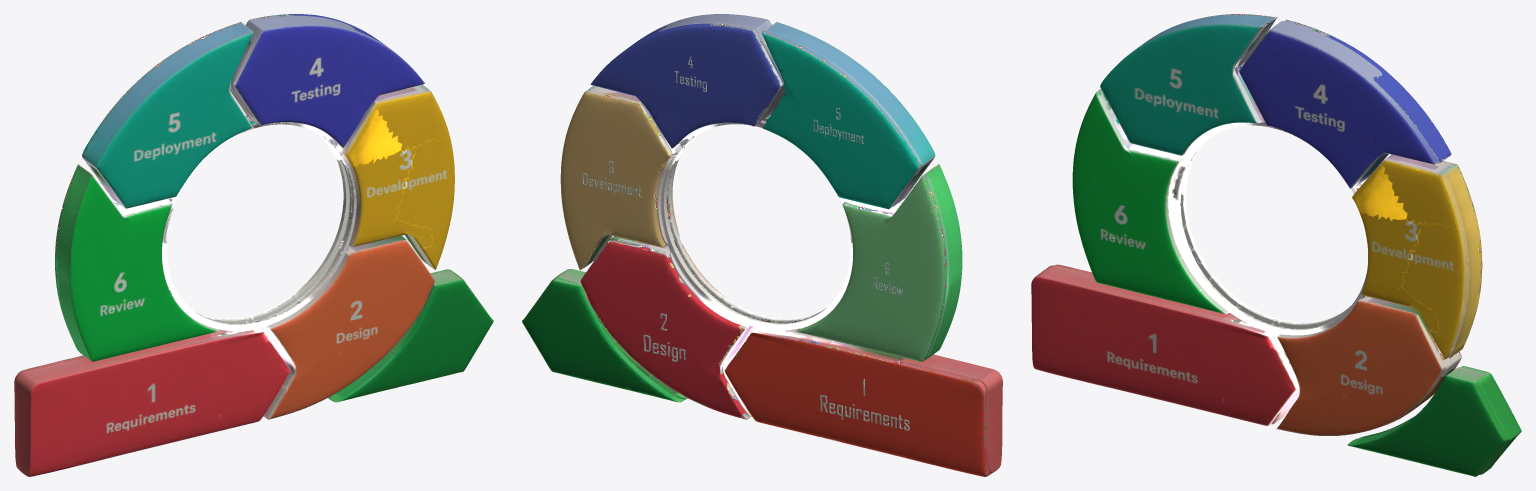
The model's file is agile1.glb.
3 views of the same model, side by side, from view 1: azimuth 30°, elevation 25°; view 2: azimuth 150°, elevation 25°; view 3: azimuth 330°, elevation 25° (orthographic).
Visible parts, largest first — view 1: AG_REQUIREMENT, AG_REVIEW, AG_DEPLOYMENT, AG_DESIGN, AG_TESTING, Mesh_0, AG_DEVELOPMENT; view 2: AG_REQUIREMENT, AG_REVIEW, AG_DEPLOYMENT, Mesh_0, AG_TESTING, AG_DESIGN, AG_DEVELOPMENT; view 3: AG_REQUIREMENT, AG_REVIEW, AG_TESTING, AG_DEVELOPMENT, AG_DESIGN, AG_DEPLOYMENT, Mesh_0.
Boxes of the visible parts, bbox=[...] form: AG_REQUIREMENT: bbox=[14, 332, 292, 476]; AG_REVIEW: bbox=[55, 164, 219, 361]; AG_DEPLOYMENT: bbox=[82, 22, 253, 208]; AG_DESIGN: bbox=[263, 236, 445, 417]; AG_TESTING: bbox=[230, 14, 424, 152]; Mesh_0: bbox=[14, 18, 493, 452]; AG_DEVELOPMENT: bbox=[339, 93, 454, 266]; AG_REQUIREMENT: bbox=[734, 326, 1002, 476]; AG_REVIEW: bbox=[796, 164, 962, 361]; AG_DEPLOYMENT: bbox=[761, 22, 935, 209]; Mesh_0: bbox=[522, 26, 1002, 452]; AG_TESTING: bbox=[590, 14, 784, 151]; AG_DESIGN: bbox=[587, 235, 752, 417]; AG_DEVELOPMENT: bbox=[560, 92, 681, 270]; AG_REQUIREMENT: bbox=[1031, 264, 1299, 425]; AG_REVIEW: bbox=[1072, 89, 1241, 314]; AG_TESTING: bbox=[1238, 21, 1451, 193]; AG_DEVELOPMENT: bbox=[1352, 162, 1482, 358]; AG_DESIGN: bbox=[1282, 308, 1453, 450]; AG_DEPLOYMENT: bbox=[1100, 14, 1277, 158]; Mesh_0: bbox=[1032, 19, 1521, 476].
Bounding box in the file's own units: 1.9 × 1.53 × 0.152.
Materials: 2 (1 with a texture image).
